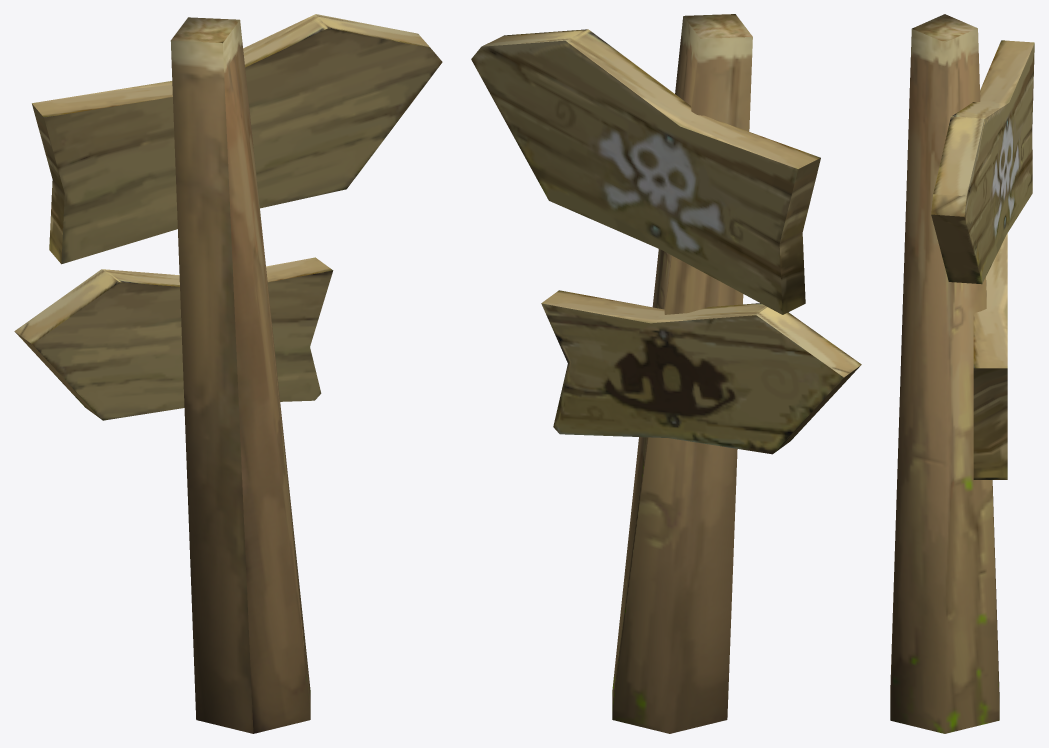
Rendered from RoadSignal1.FBX.
3 renders of one model, left to right at view 1: azimuth 30°, elevation 25°; view 2: azimuth 150°, elevation 25°; view 3: azimuth 270°, elevation 25°, orthographic. The views are drawn at different scales.
Parts seen in each view (by area): view 1: RoadSignal1; view 2: RoadSignal1; view 3: RoadSignal1.
Part boxes in pixels (x1,y1,x2,y2): RoadSignal1: (14, 14, 442, 733); RoadSignal1: (471, 14, 861, 733); RoadSignal1: (890, 14, 1034, 733).
Size of the model in its own units: 40.13 by 67.2 by 13.37.
Materials: 1 (1 with a texture image).
